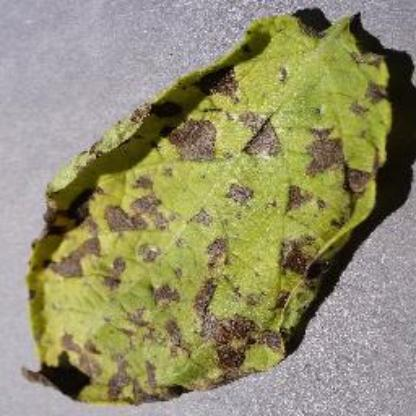Early-Blight: (20, 9, 398, 405)
